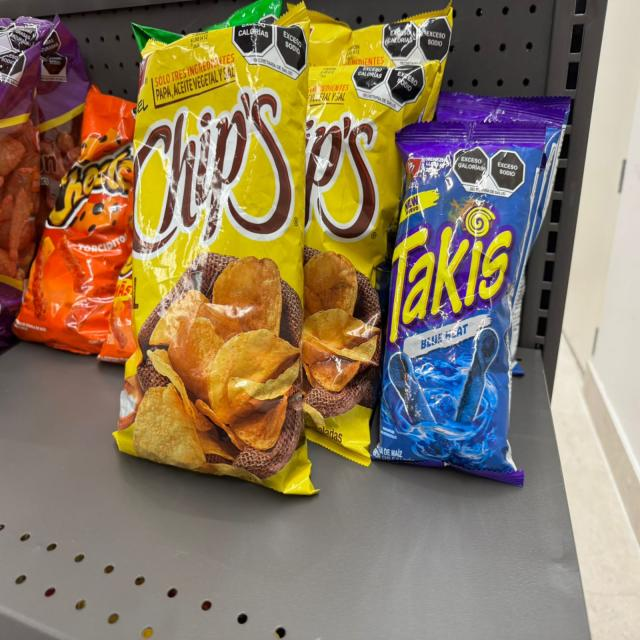CHEETOS TORCIDITOS 240GR: (98, 246, 135, 367)
Cheetos grandes: (13, 92, 135, 350)
Papas Chips Barcel 170 gr bolsa con sal: (114, 1, 315, 494), (305, 63, 438, 467), (306, 2, 461, 65)
Takis Blue 75g: (376, 126, 543, 472), (530, 124, 563, 260), (436, 89, 566, 122)
chicharrones de cerdo intenso: (0, 19, 45, 354), (37, 18, 88, 237)
